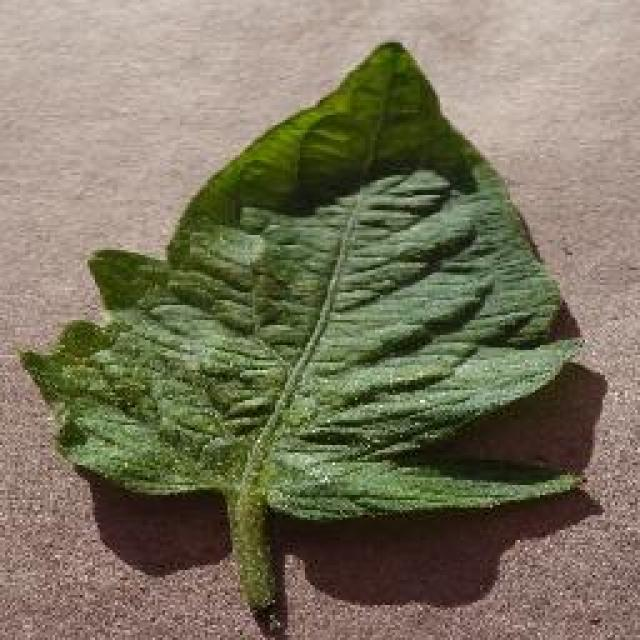Tomato spider mites leaf: (20, 36, 587, 522)
